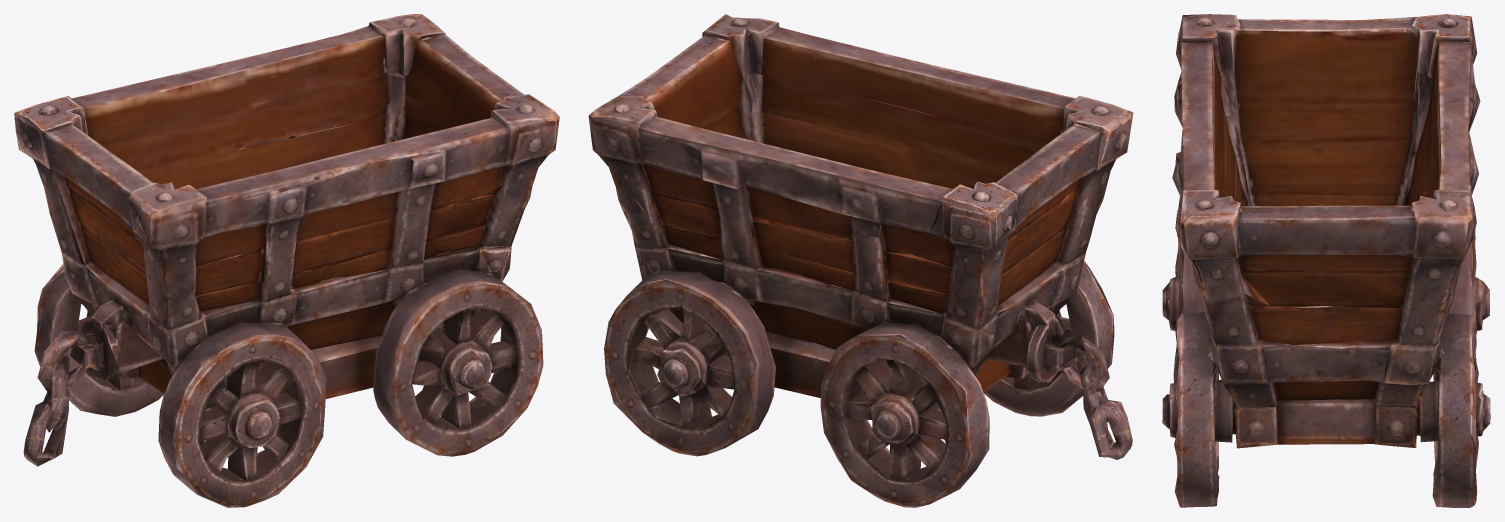
Rendered from cart.glb.
3 views of the same model, side by side, from view 1: azimuth 30°, elevation 25°; view 2: azimuth 150°, elevation 25°; view 3: azimuth 270°, elevation 25° (orthographic). The views are drawn at different scales.
Visible parts, largest first — view 1: Mesh_0; view 2: Mesh_0; view 3: Mesh_0.
Boxes of the visible parts, x1,y1,x2,y2 form: Mesh_0: (14, 14, 559, 507); Mesh_0: (588, 14, 1133, 507); Mesh_0: (1162, 14, 1490, 507).
Size of the model in its own units: 1.9 by 1.25 by 1.1.
1 material, 1 textured.
